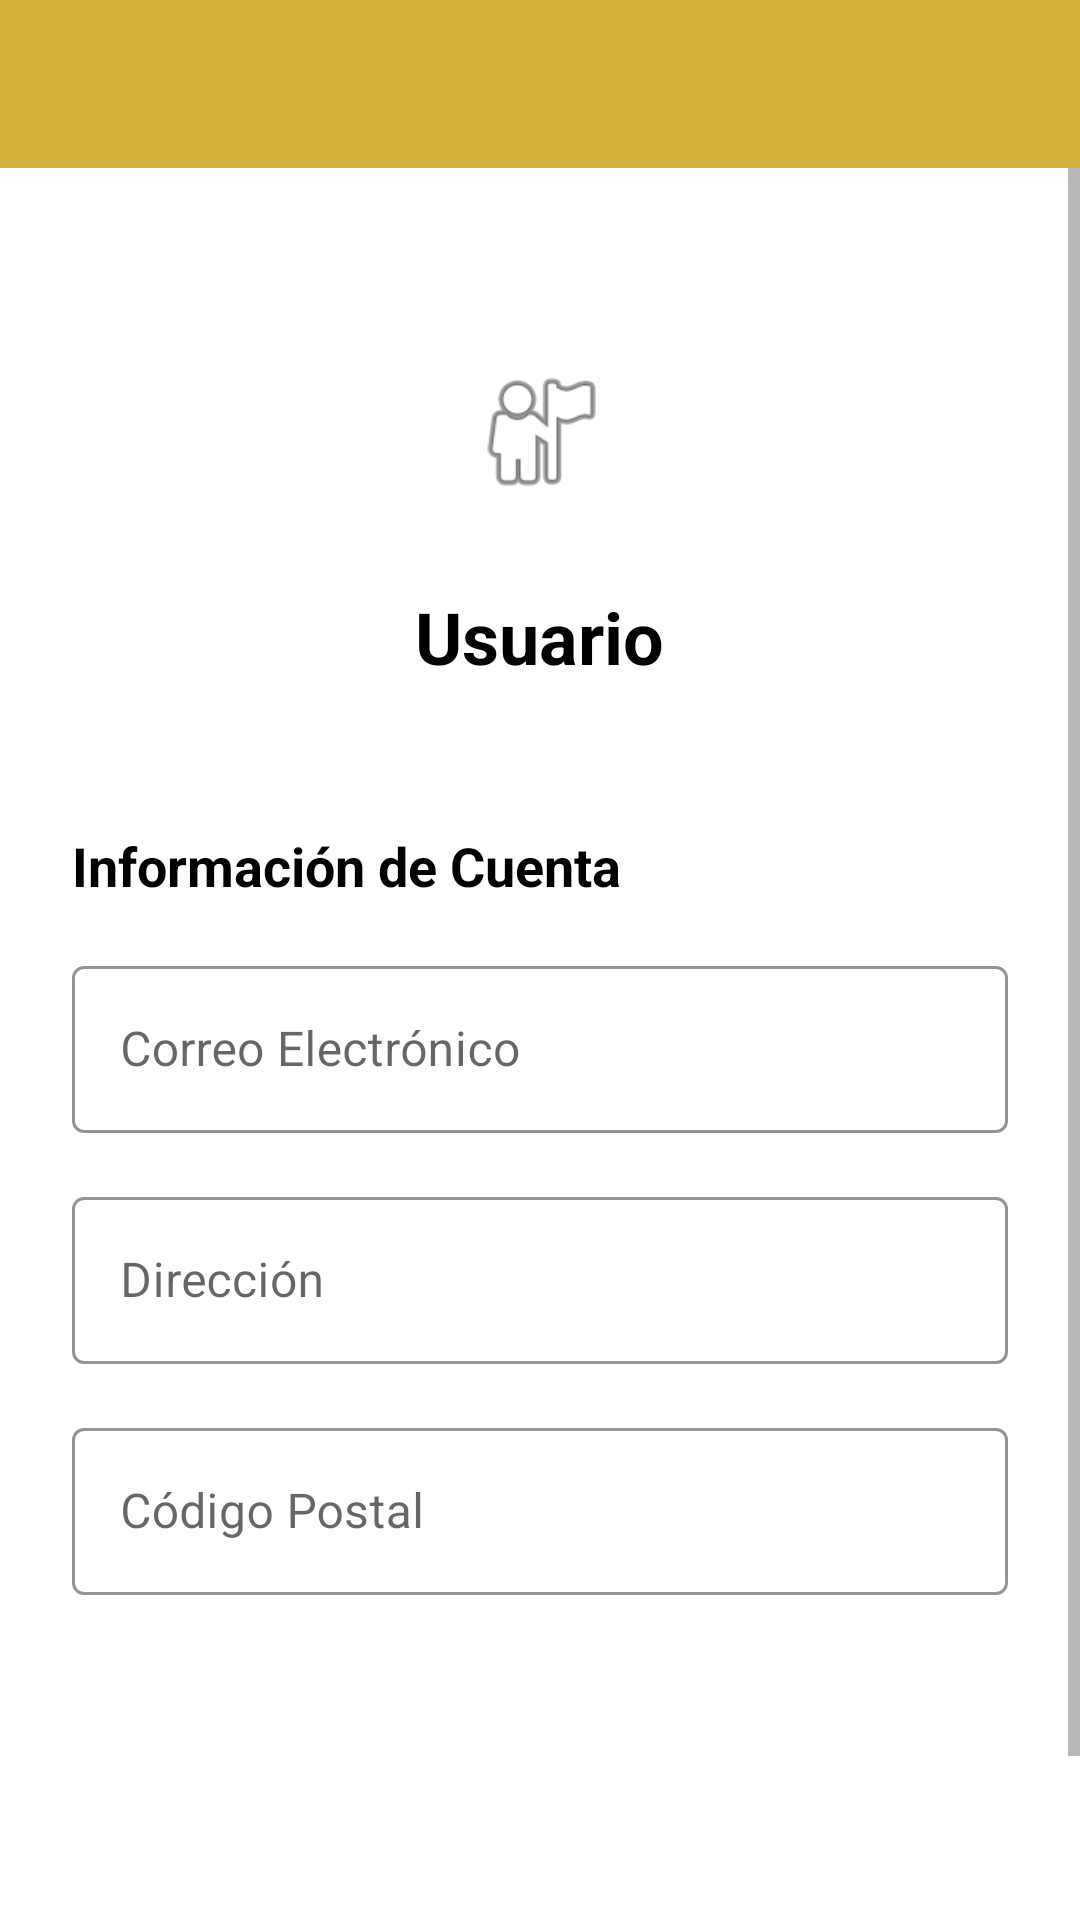

Screen size 1080x1920. Icon name, then its center in pixels as [x,y]:
myplaces: [541,432]
